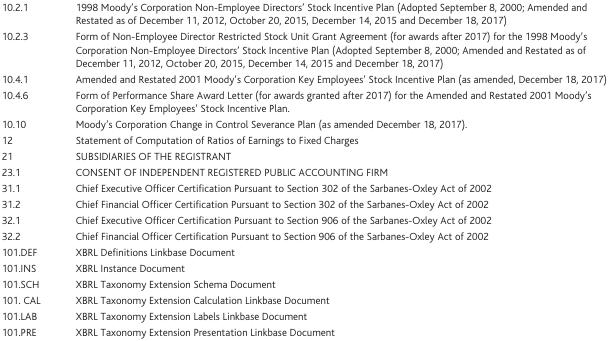table: (0, 0, 605, 337)
table column: (57, 0, 605, 337), (0, 0, 57, 337)
table row: (0, 28, 605, 70), (0, 86, 605, 116), (0, 0, 605, 28), (0, 70, 605, 86), (0, 116, 605, 132), (0, 132, 605, 148), (0, 148, 605, 164), (0, 179, 605, 195), (0, 195, 605, 211), (0, 211, 605, 227), (0, 227, 605, 243), (0, 243, 605, 259), (0, 259, 605, 275), (0, 275, 605, 291), (0, 291, 605, 307), (0, 307, 605, 323), (0, 164, 605, 179), (0, 323, 605, 337)
